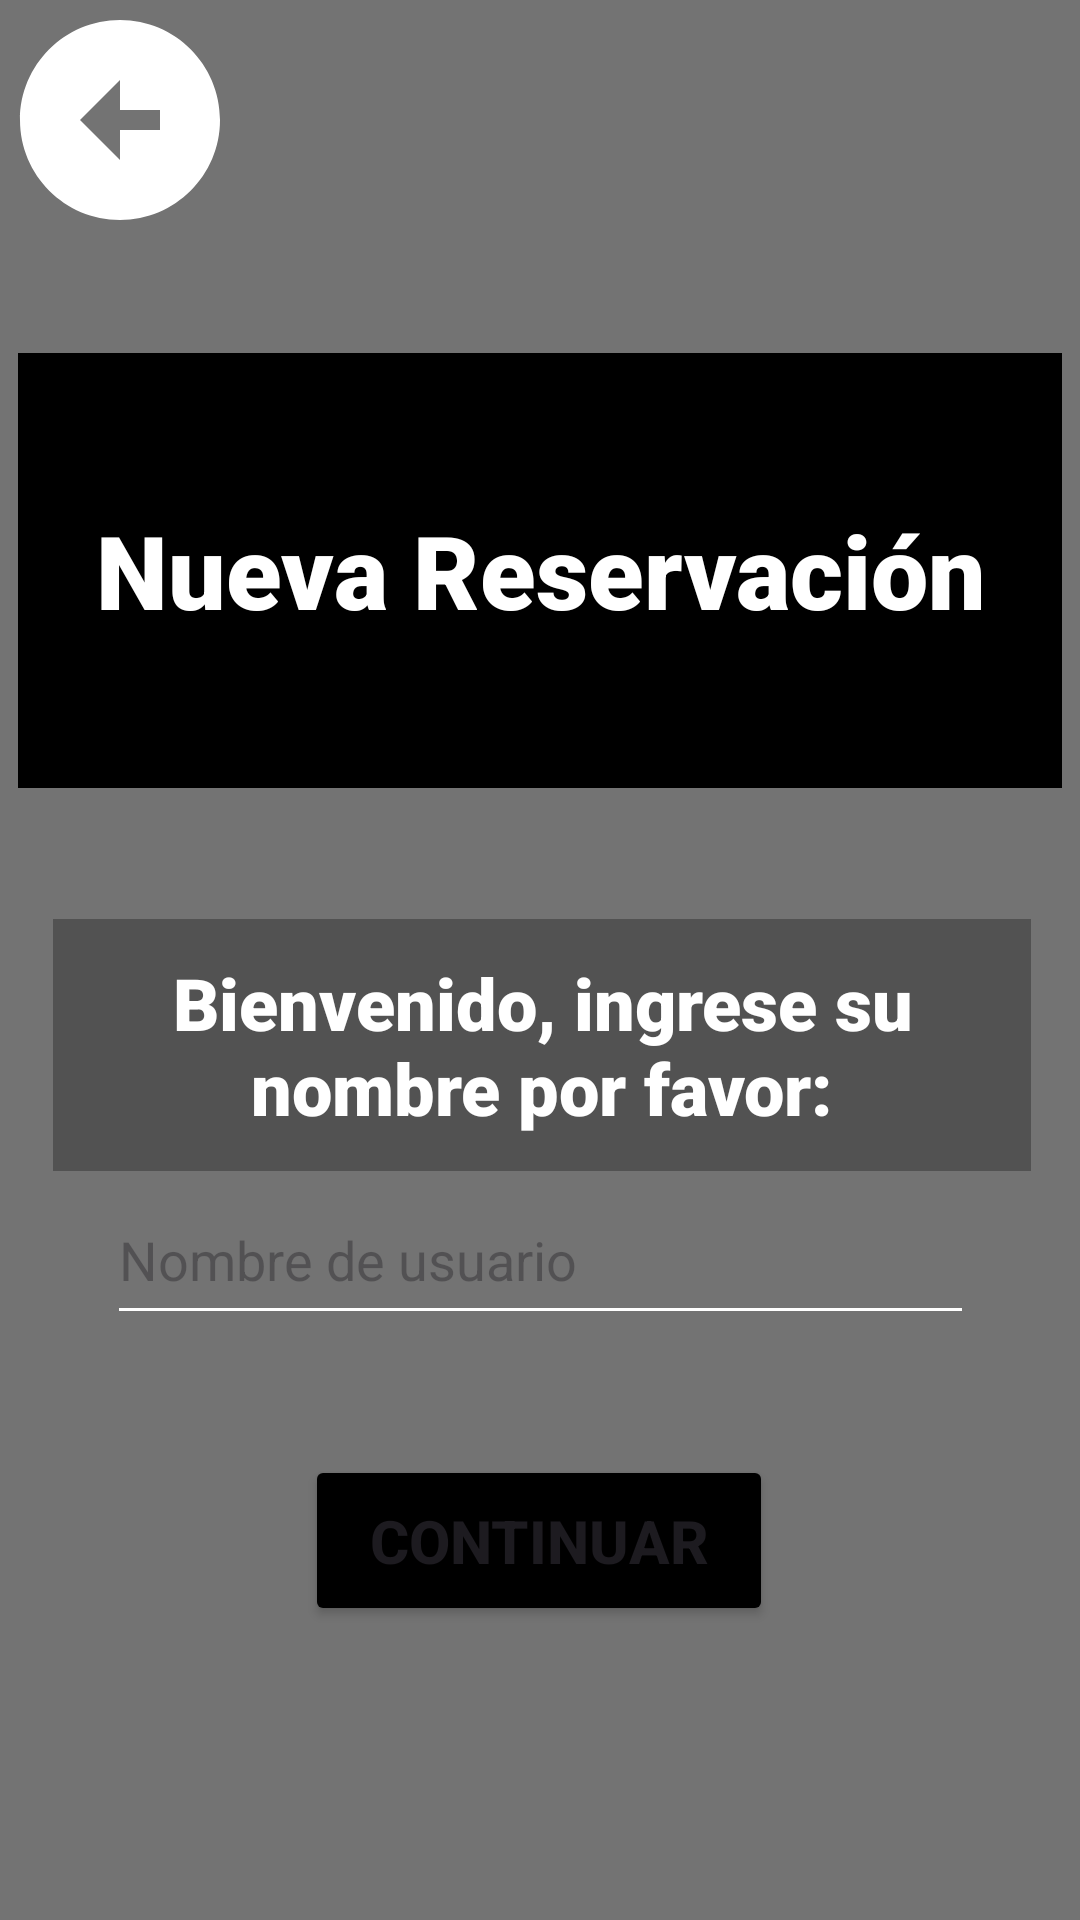

Where to tap for icons on this 1080 × 1920 app screen, as point (x, y):
Volver: point (120, 120)
